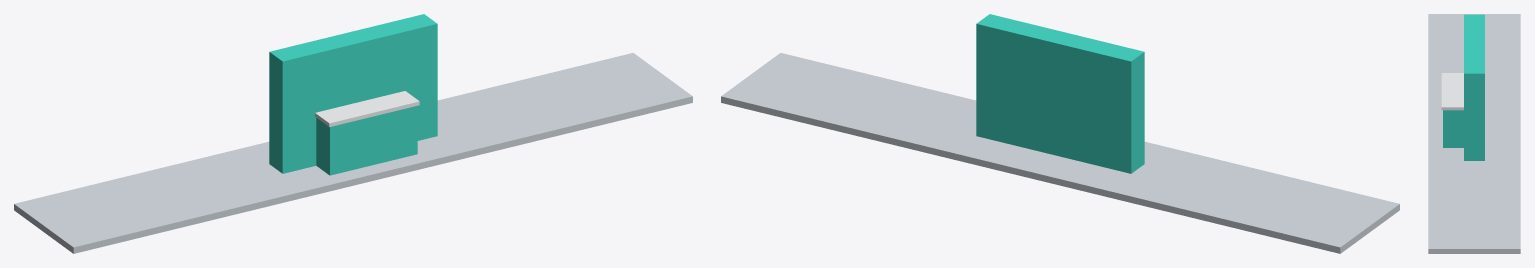
The picture shows the model from 3 angles, left to right: view 1: azimuth 30°, elevation 25°; view 2: azimuth 150°, elevation 25°; view 3: azimuth 270°, elevation 25°; orthographic projection. The views are drawn at different scales.
Parts seen in each view (by area): view 1: Exhibition Booth Concept; view 2: Exhibition Booth Concept; view 3: Exhibition Booth Concept.
Boxes of the visible parts, x1,y1,x2,y2 form: Exhibition Booth Concept: (14, 14, 692, 253); Exhibition Booth Concept: (721, 14, 1399, 253); Exhibition Booth Concept: (1428, 14, 1520, 253).
Size of the model in its own units: 12 by 2.2 by 2.
